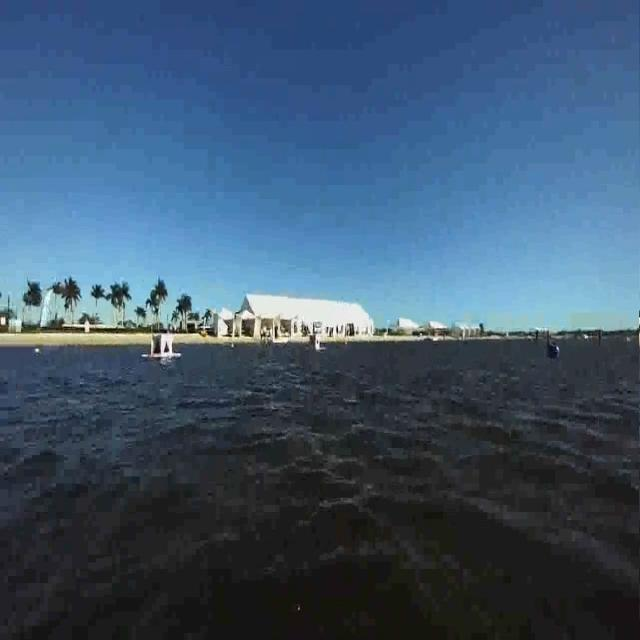blue-buoy: (550, 343, 561, 360)
